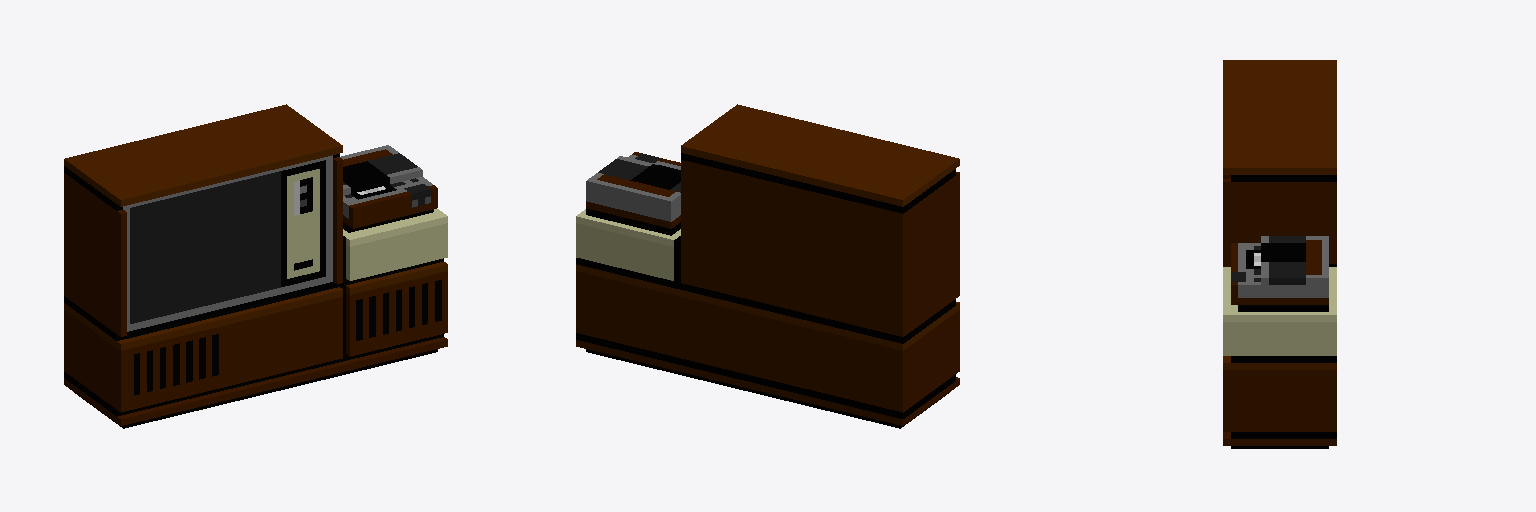
3 views of the same model, side by side, from view 1: azimuth 30°, elevation 25°; view 2: azimuth 150°, elevation 25°; view 3: azimuth 270°, elevation 25° (orthographic).
Visible parts, largest first — view 1: object 1; view 2: object 1; view 3: object 1.
Boxes of the visible parts, <box> form: object 1: <box>64,104,447,428</box>; object 1: <box>576,104,959,428</box>; object 1: <box>1223,60,1336,448</box>.
Bounding box in the file's own units: 5 × 3.4 × 1.5.
1 materials, 1 textured.